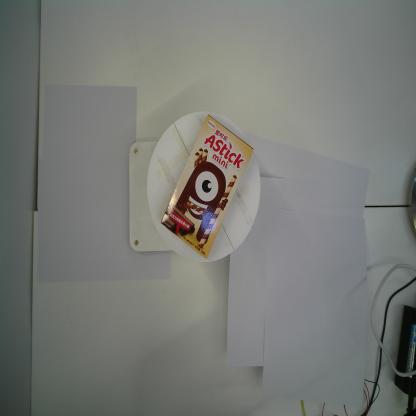Dessert: (161, 114, 253, 259)
